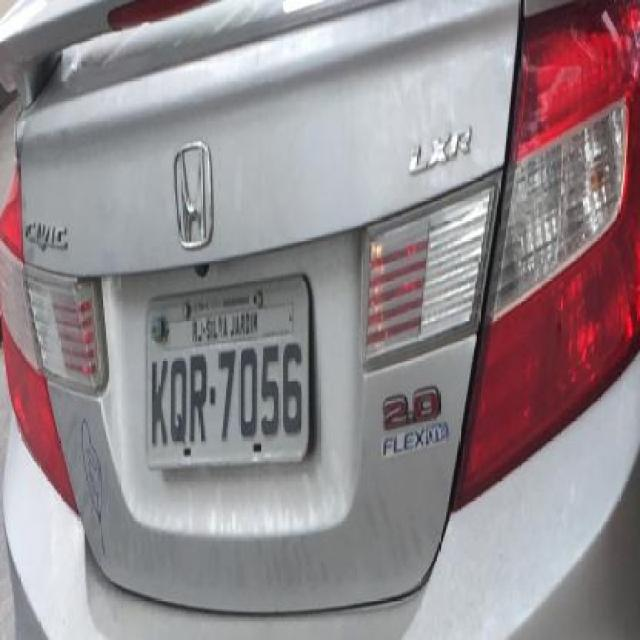old_plate: (137, 268, 321, 477)
